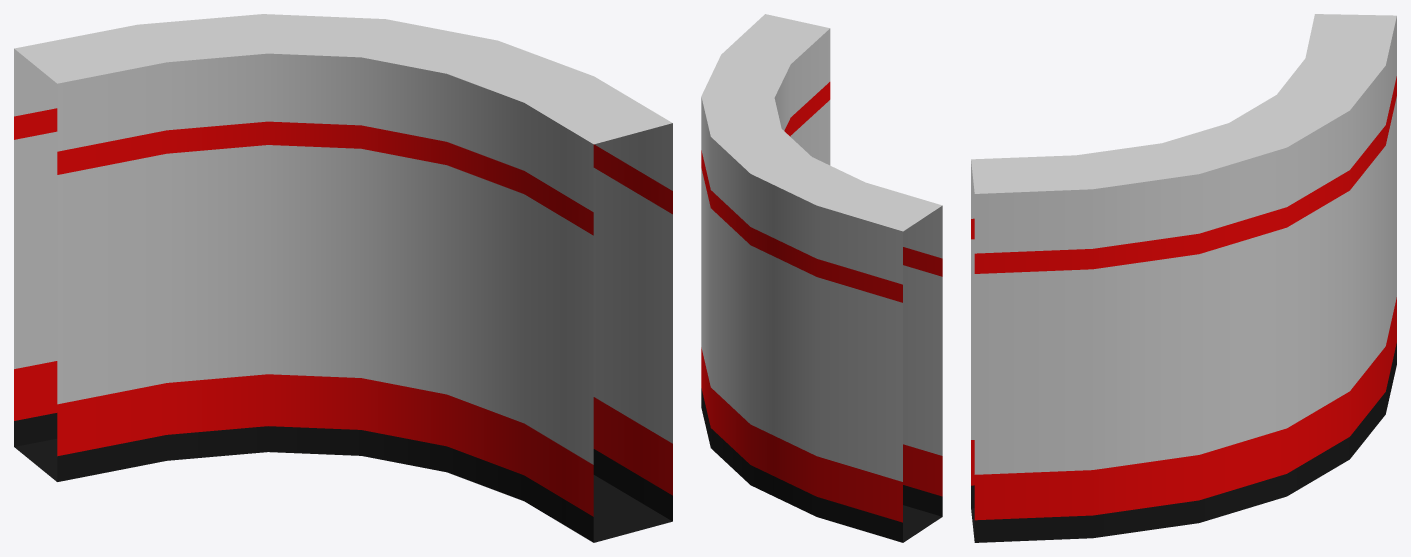
Rendered from UL2_Sci-Fi_wall_arc.fbx.
3 renders of one model, left to right at view 1: azimuth 30°, elevation 25°; view 2: azimuth 150°, elevation 25°; view 3: azimuth 270°, elevation 25°, orthographic. The views are drawn at different scales.
Parts seen in each view (by area): view 1: Object008; view 2: Object008; view 3: Object008.
Boxes of the visible parts, x1,y1,x2,y2 form: Object008: (14, 14, 672, 542); Object008: (701, 14, 942, 542); Object008: (971, 14, 1396, 542).
Size of the model in its own units: 4.15 by 4.15 by 3.75.
